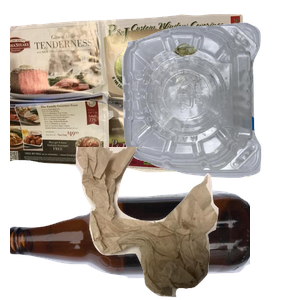glass: (10, 188, 250, 300)
paper: (10, 11, 250, 180)
plastic: (119, 20, 300, 190)
trash: (73, 147, 300, 300)
